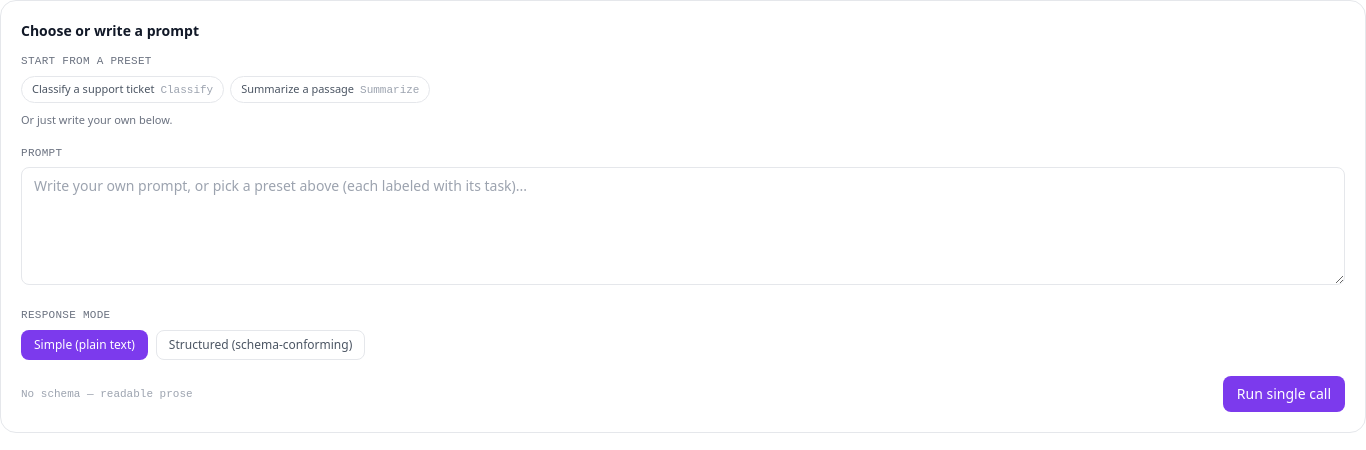
the preset selector › puts the full preset prompt into the box, untruncated
Click the button "Classify a support ticket": (123, 89) [21, 76, 224, 103]
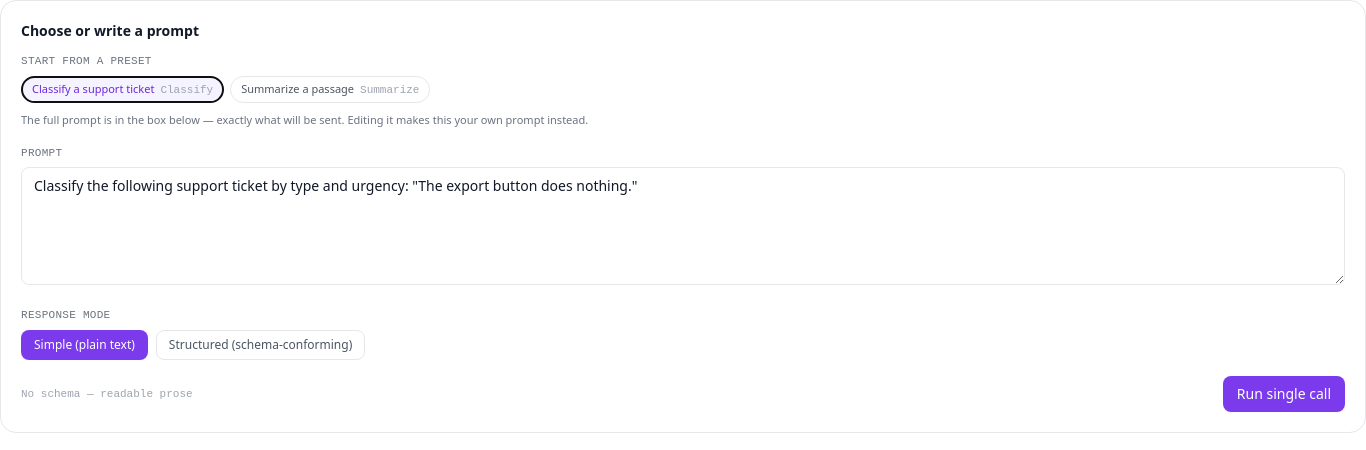
Expected: the text box labelled "Prompt" holds "Classify the following support ticket by type and urgency: \"The export button does nothing.\"", [21, 167, 1345, 285]
